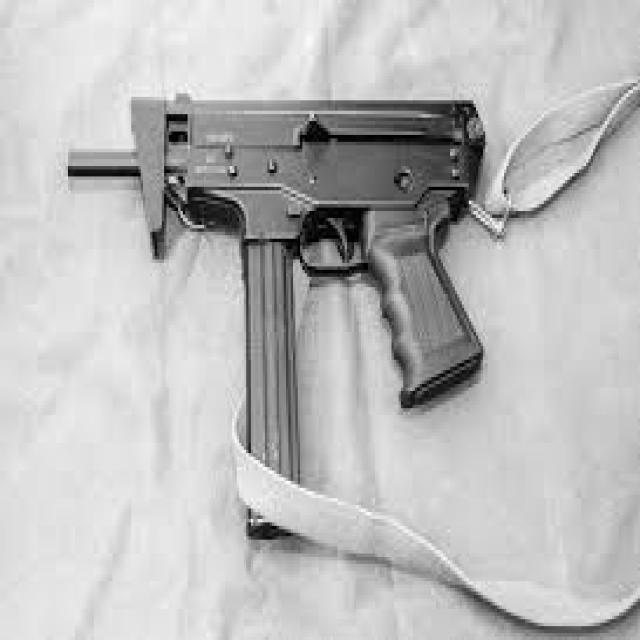semi: (64, 79, 497, 548)
